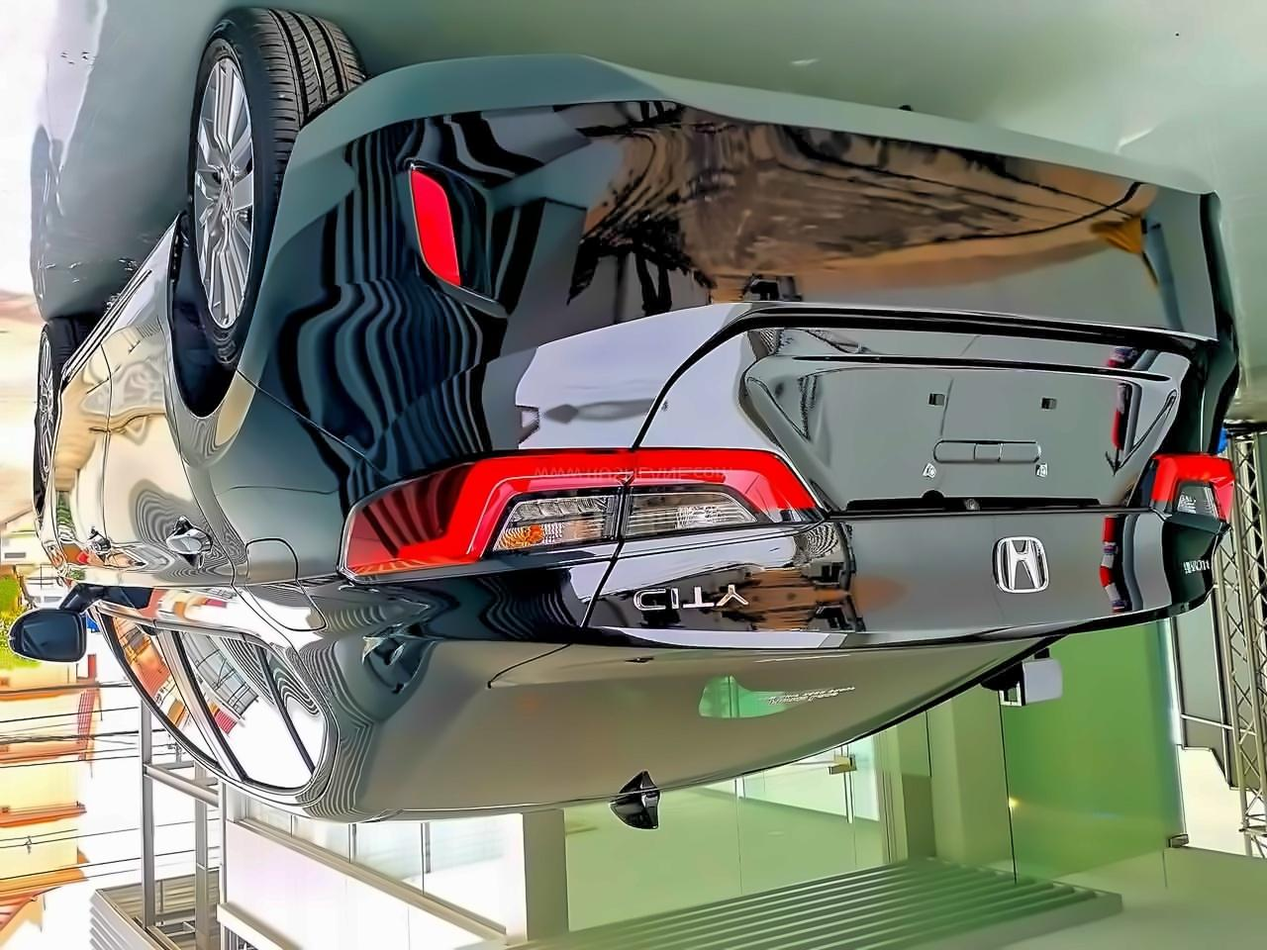Car boot: (581, 320, 1229, 648)
Fender - -R-R-: (153, 302, 361, 642)
Passenger-s door - -R-R-: (110, 112, 344, 854)
Rear bumper: (241, 48, 1267, 482)
Rear light - -L-: (1130, 449, 1239, 529)
Rear light - -R-: (339, 444, 827, 577)
Side bumper - -R-: (51, 213, 185, 521)
Side mirror - -R-: (3, 576, 109, 677)
